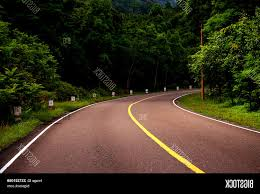strada: (0, 92, 260, 187)
